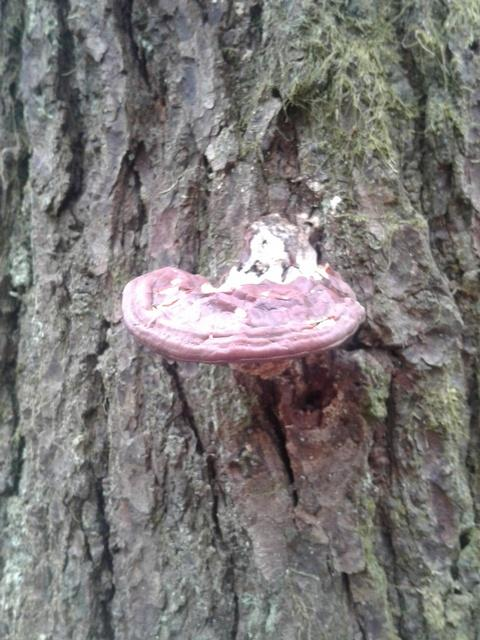Non-edible Mushroom: (120, 211, 366, 376)
